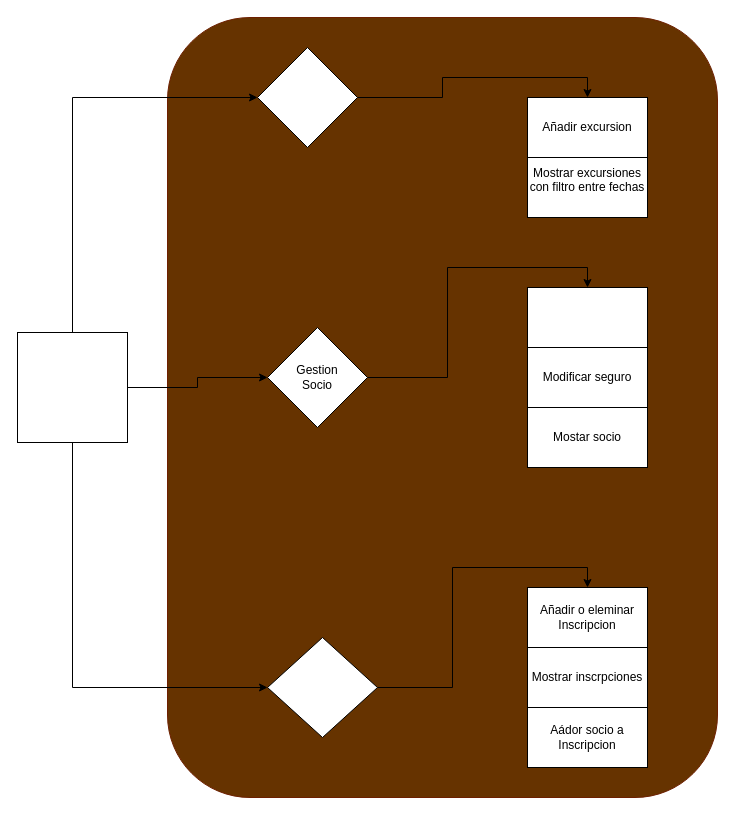
This 735x815 diagram has some shape labels left out. Here are the shapes that lost their labels. From the top down, the box of each, then its label:
(256, 46, 358, 148): Gestion Excursiones
(526, 286, 648, 348): Añadir o eliminar socio
(16, 332, 128, 442): Administrador
(266, 636, 378, 738): Gestion Inscripciones
